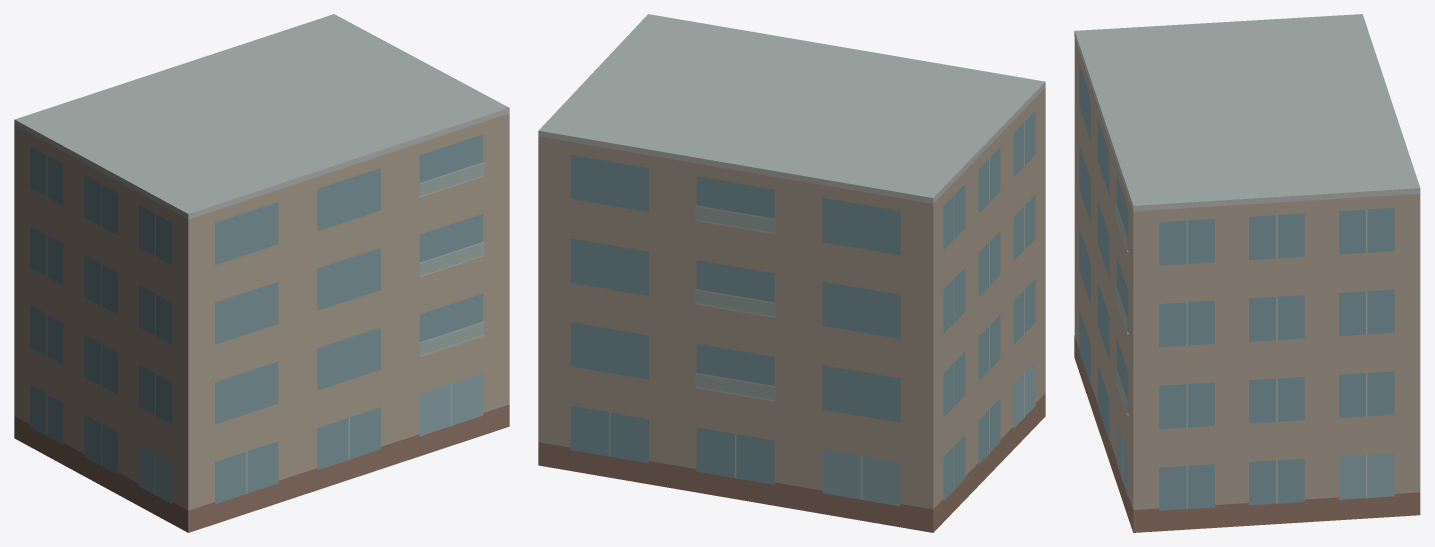
Rendered from survey-upis-32676468.glb.
3 renders of one model, left to right at view 1: azimuth 30°, elevation 25°; view 2: azimuth 150°, elevation 25°; view 3: azimuth 270°, elevation 25°, orthographic. The views are drawn at different scales.
Visible parts, largest first — view 1: survey-upis-32676468.tmp; view 2: survey-upis-32676468.tmp; view 3: survey-upis-32676468.tmp.
Part boxes in pixels (bbox=[...]): survey-upis-32676468.tmp: bbox=[14, 14, 509, 532]; survey-upis-32676468.tmp: bbox=[538, 14, 1045, 532]; survey-upis-32676468.tmp: bbox=[1074, 14, 1420, 532].
Bounding box in the file's own units: 17.75 × 14.1 × 13.53.
